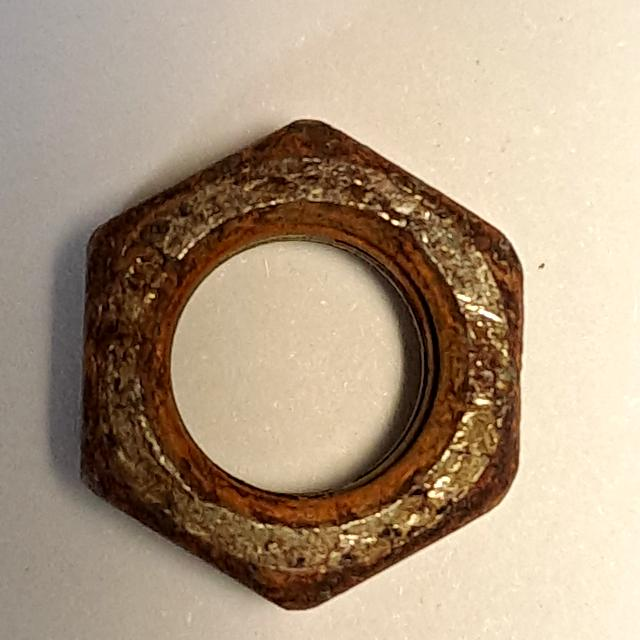Rust: (68, 94, 538, 621)
